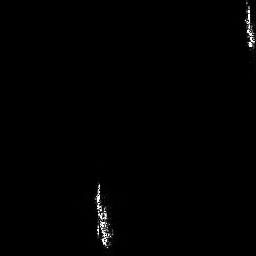ship: (93, 182, 118, 250), (243, 4, 255, 52)
